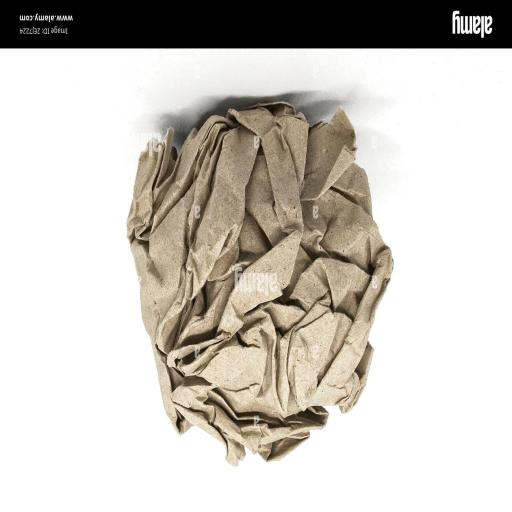Kertas: (125, 101, 395, 466)
